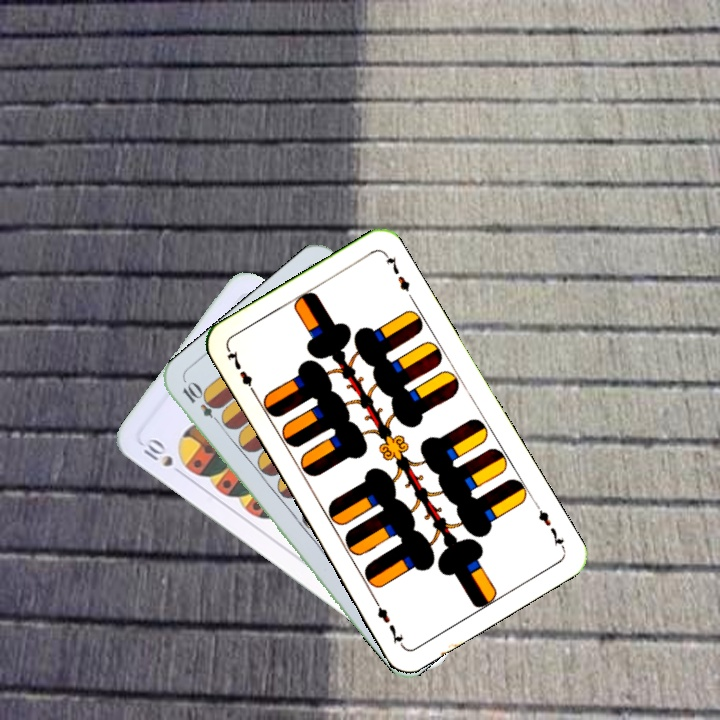E10: (178, 378, 226, 429)
E7: (530, 498, 568, 552), (223, 345, 260, 399)
S10: (139, 435, 188, 480)
